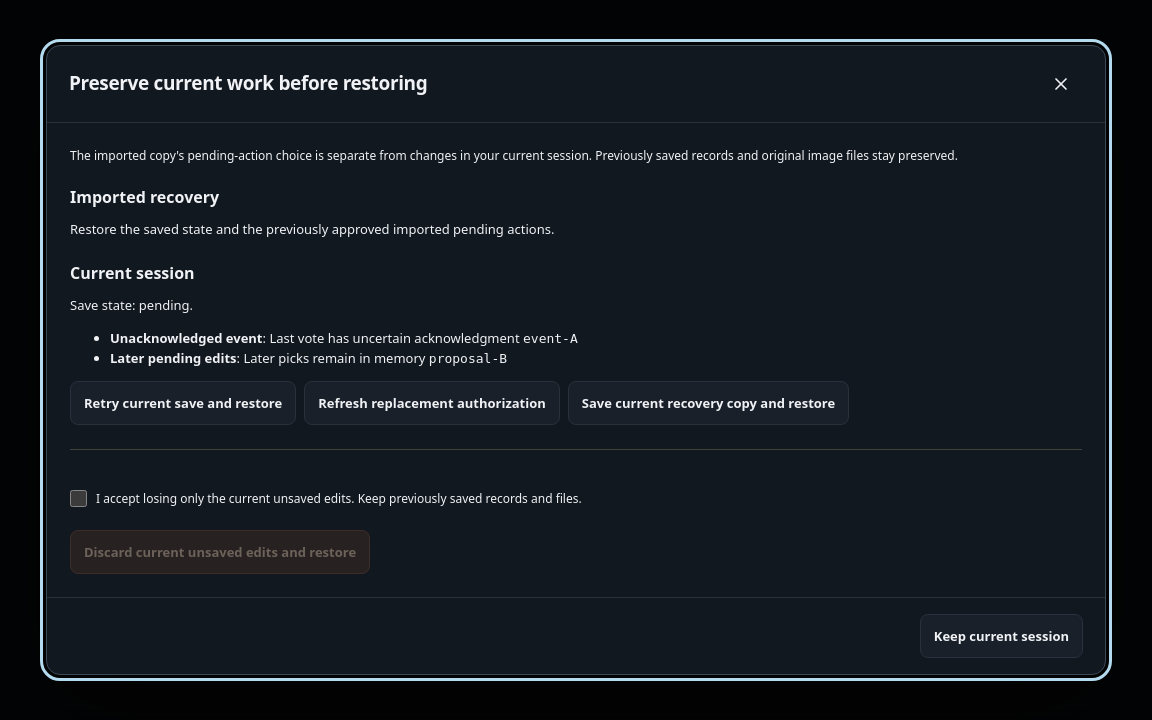
Test: keeps a failed save retry reviewable and never marks it saved
The image size is (1152, 720).
Click the button "Retry current save and restore".
click(183, 403)  # box left=70, top=381, right=296, bottom=425
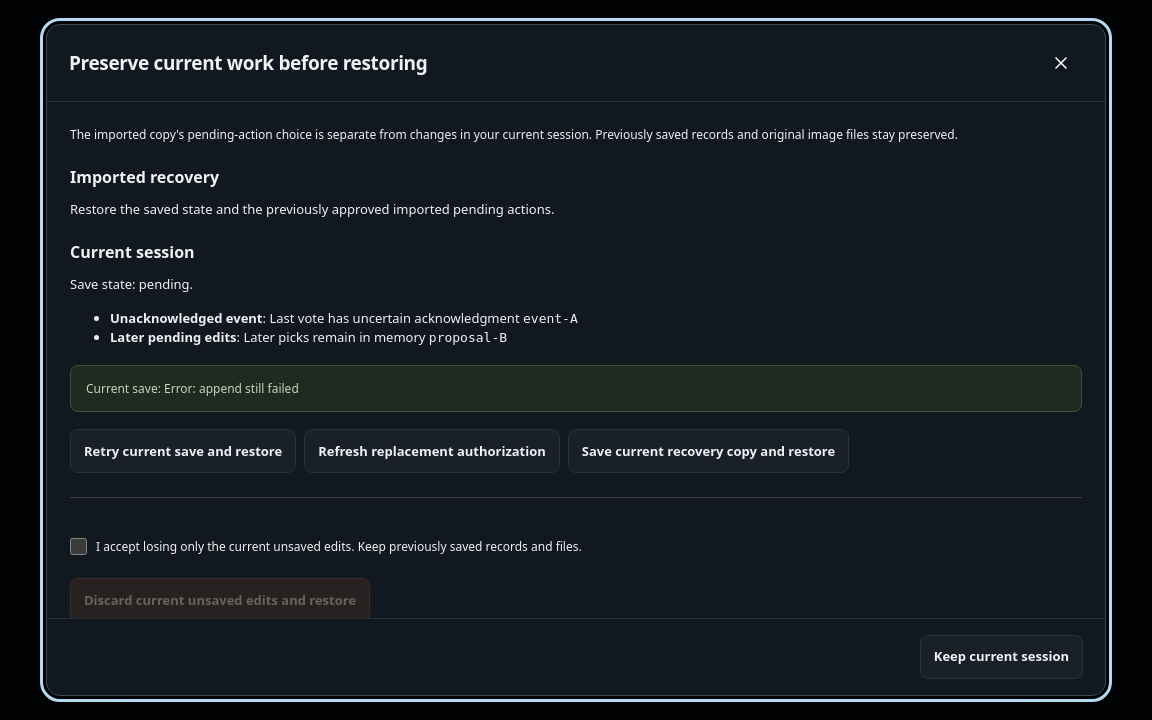
Expected: the text "Current save: Error: append still failed" is shown, left=70, top=365, right=1082, bottom=412
